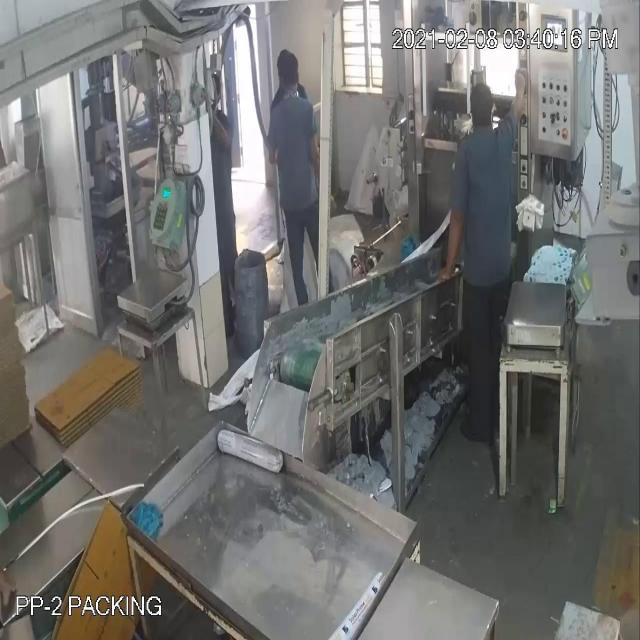No_Gloves: (32, 64, 517, 244)
